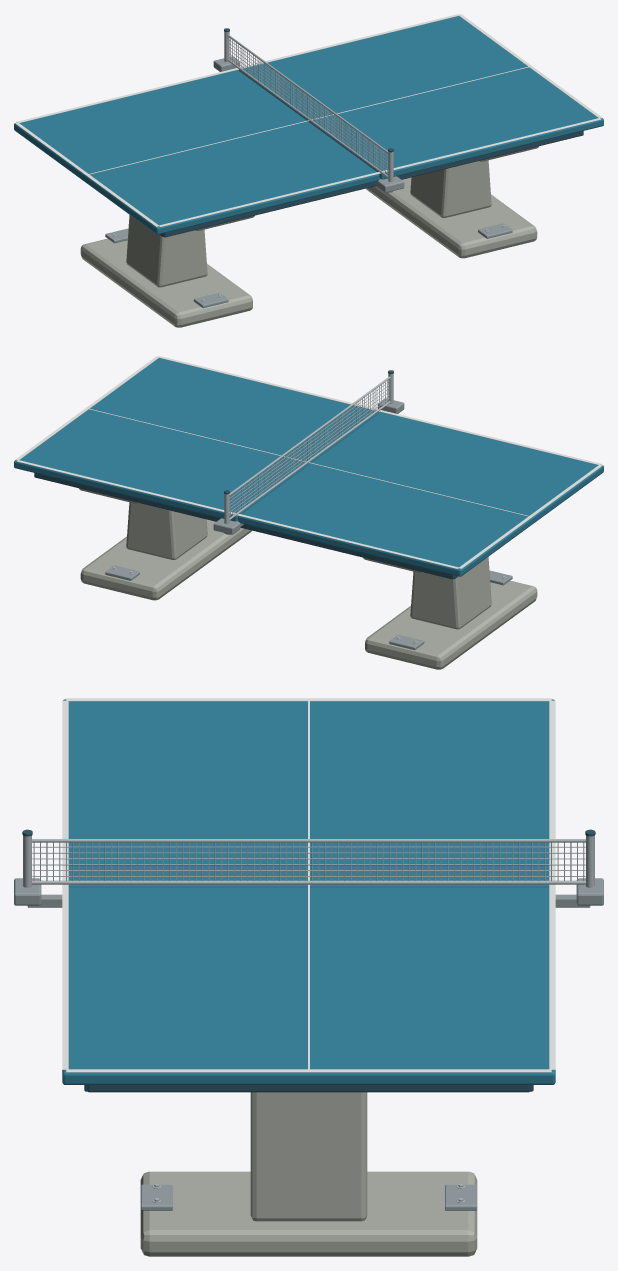
Rendered from city-outdoor-table-tennis.glb.
3 views of the same model, one above another, from view 1: azimuth 30°, elevation 25°; view 2: azimuth 150°, elevation 25°; view 3: azimuth 270°, elevation 25° (orthographic). The views are drawn at different scales.
Parts seen in each view (by area): view 1: Assembly | Blue matte playing surface, Assembly | Warm precast mineral support, Assembly | Satin stainless hardware, Assembly | Warm white markings and board, Assembly | Deep blue outdoor powder coat, Assembly | Galvanized mounting steel; view 2: Assembly | Blue matte playing surface, Assembly | Warm precast mineral support, Assembly | Satin stainless hardware, Assembly | Warm white markings and board, Assembly | Deep blue outdoor powder coat, Assembly | Galvanized mounting steel; view 3: Assembly | Blue matte playing surface, Assembly | Warm precast mineral support, Assembly | Satin stainless hardware, Assembly | Warm white markings and board, Assembly | Deep blue outdoor powder coat, Assembly | Galvanized mounting steel.
Boxes of the visible parts, x1,y1,x2,y2 form: Assembly | Blue matte playing surface: [14, 14, 603, 234]; Assembly | Warm precast mineral support: [80, 146, 538, 327]; Assembly | Satin stainless hardware: [111, 31, 506, 301]; Assembly | Warm white markings and board: [15, 14, 602, 226]; Assembly | Deep blue outdoor powder coat: [160, 28, 583, 237]; Assembly | Galvanized mounting steel: [105, 56, 512, 308]; Assembly | Blue matte playing surface: [14, 356, 603, 576]; Assembly | Warm precast mineral support: [79, 488, 537, 669]; Assembly | Satin stainless hardware: [111, 373, 506, 643]; Assembly | Warm white markings and board: [15, 356, 602, 568]; Assembly | Deep blue outdoor powder coat: [34, 370, 457, 579]; Assembly | Galvanized mounting steel: [105, 398, 512, 650]; Assembly | Blue matte playing surface: [62, 699, 555, 1084]; Assembly | Warm precast mineral support: [140, 1092, 477, 1256]; Assembly | Satin stainless hardware: [23, 835, 594, 1202]; Assembly | Warm white markings and board: [62, 698, 555, 1072]; Assembly | Deep blue outdoor powder coat: [22, 829, 595, 1092]; Assembly | Galvanized mounting steel: [14, 878, 603, 1210].
Bounding box in the file's own units: 2.74 × 0.944 × 1.82.
